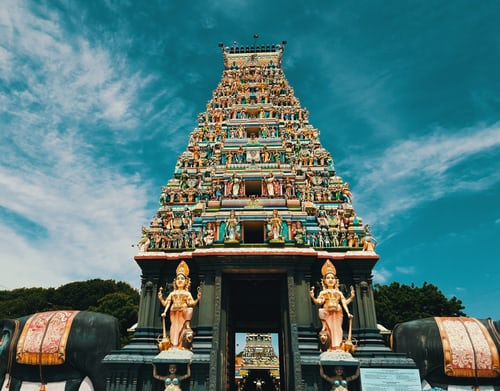Temple: (133, 38, 390, 340)
